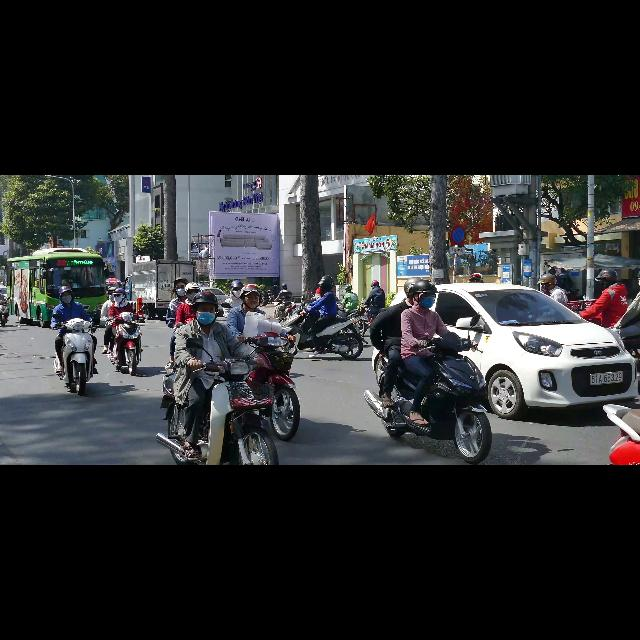bus: (7, 248, 106, 327)
car: (431, 284, 639, 419), (202, 288, 228, 303), (0, 285, 7, 297)
motorcycle: (365, 333, 492, 463), (156, 359, 278, 464), (247, 333, 300, 440), (54, 319, 94, 395), (107, 312, 141, 375), (604, 405, 639, 464), (283, 306, 315, 354), (338, 307, 371, 335), (274, 303, 296, 322), (0, 301, 9, 327)
truck: (125, 260, 195, 319)
